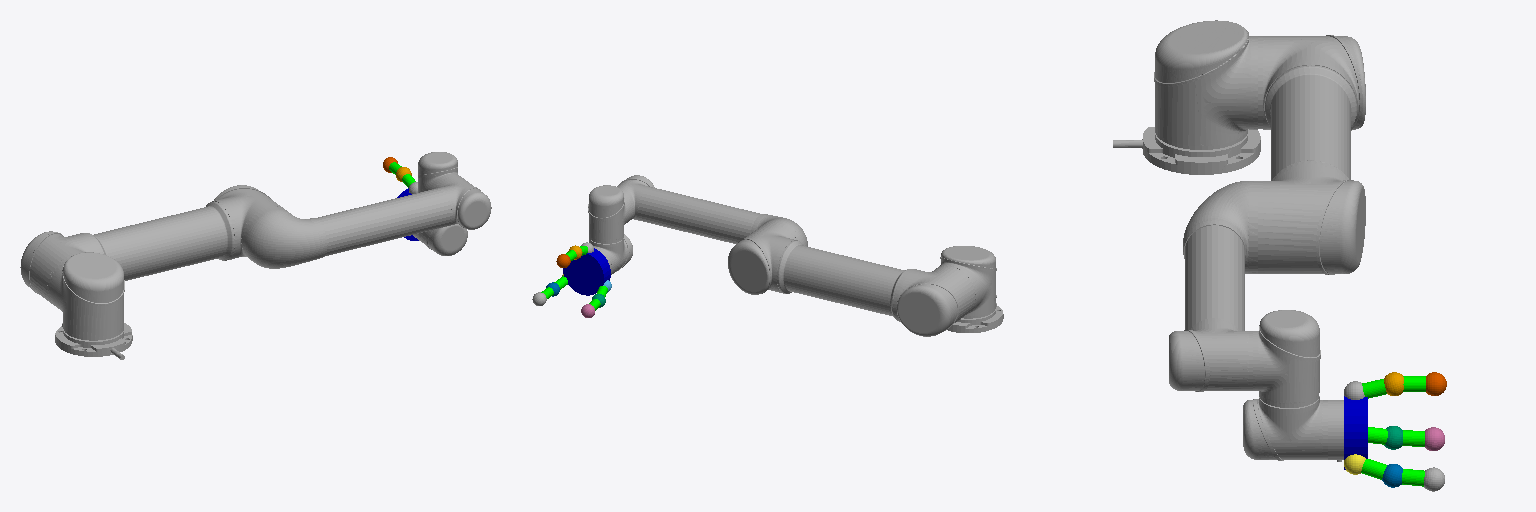
robot.urdf — ur5_3f2j:
<?xml version='1.0' encoding='UTF-8'?>
<robot name="ur5_3f2j">
  <link name="base_link">
    <inertial>
      <origin xyz="0.0 0.0 0.0" rpy="0.0 0.0 0.0"/>
      <mass value="4.0"/>
      <inertia ixx="0.00443333156" ixy="0.0" ixz="0.0" iyy="0.00443333156" iyz="0.0" izz="0.0072"/>
    </inertial>
    <visual>
      <geometry>
        <mesh filename="meshes/ur5/visual/base.obj"/>
      </geometry>
      <material name="LightGrey"/>
      <origin xyz="0.0 0.0 0.0" rpy="0.0 -0.0 0.0"/>
    </visual>
    <collision>
      <geometry>
        <mesh filename="meshes/ur5/collision/base.stl"/>
      </geometry>
      <origin xyz="0.0 0.0 0.0" rpy="0.0 -0.0 0.0"/>
    </collision>
  </link>
  <link name="shoulder_link">
    <inertial>
      <origin xyz="0.0 0.0 0.0" rpy="0.0 0.0 0.0"/>
      <mass value="3.7"/>
      <inertia ixx="0.010267495893" ixy="0.0" ixz="0.0" iyy="0.010267495893" iyz="0.0" izz="0.00666"/>
    </inertial>
    <visual>
      <geometry>
        <mesh filename="meshes/ur5/visual/shoulder.obj"/>
      </geometry>
      <material name="LightGrey"/>
      <origin xyz="0.0 0.0 0.0" rpy="0.0 -0.0 0.0"/>
    </visual>
    <collision>
      <geometry>
        <mesh filename="meshes/ur5/collision/shoulder.stl"/>
      </geometry>
      <origin xyz="0.0 0.0 0.0" rpy="0.0 -0.0 0.0"/>
    </collision>
  </link>
  <link name="upper_arm_link">
    <inertial>
      <origin xyz="0.0 0.0 0.28" rpy="0.0 0.0 0.0"/>
      <mass value="8.393"/>
      <inertia ixx="0.22689067591" ixy="0.0" ixz="0.0" iyy="0.22689067591" iyz="0.0" izz="0.0151074"/>
    </inertial>
    <visual>
      <geometry>
        <mesh filename="meshes/ur5/visual/upperarm.obj"/>
      </geometry>
      <material name="LightGrey"/>
      <origin xyz="0.0 0.0 0.0" rpy="0.0 -0.0 0.0"/>
    </visual>
    <collision>
      <geometry>
        <mesh filename="meshes/ur5/collision/upperarm.stl"/>
      </geometry>
      <origin xyz="0.0 0.0 0.0" rpy="0.0 -0.0 0.0"/>
    </collision>
  </link>
  <link name="forearm_link">
    <inertial>
      <origin xyz="0.0 0.0 0.25" rpy="0.0 0.0 0.0"/>
      <mass value="2.275"/>
      <inertia ixx="0.049443313556" ixy="0.0" ixz="0.0" iyy="0.049443313556" iyz="0.0" izz="0.004095"/>
    </inertial>
    <visual>
      <geometry>
        <mesh filename="meshes/ur5/visual/forearm.obj"/>
      </geometry>
      <material name="LightGrey"/>
      <origin xyz="0.0 0.0 0.0" rpy="0.0 -0.0 0.0"/>
    </visual>
    <collision>
      <geometry>
        <mesh filename="meshes/ur5/collision/forearm.stl"/>
      </geometry>
      <origin xyz="0.0 0.0 0.0" rpy="0.0 -0.0 0.0"/>
    </collision>
  </link>
  <link name="wrist_1_link">
    <inertial>
      <origin xyz="0.0 0.0 0.0" rpy="0.0 0.0 0.0"/>
      <mass value="1.219"/>
      <inertia ixx="0.111172755531" ixy="0.0" ixz="0.0" iyy="0.111172755531" iyz="0.0" izz="0.21942"/>
    </inertial>
    <visual>
      <geometry>
        <mesh filename="meshes/ur5/visual/wrist1.obj"/>
      </geometry>
      <material name="LightGrey"/>
      <origin xyz="0.0 0.0 0.0" rpy="0.0 -0.0 0.0"/>
    </visual>
    <collision>
      <geometry>
        <mesh filename="meshes/ur5/collision/wrist1.stl"/>
      </geometry>
      <origin xyz="0.0 0.0 0.0" rpy="0.0 -0.0 0.0"/>
    </collision>
  </link>
  <link name="wrist_2_link">
    <inertial>
      <origin xyz="0.0 0.0 0.0" rpy="0.0 0.0 0.0"/>
      <mass value="1.219"/>
      <inertia ixx="0.111172755531" ixy="0.0" ixz="0.0" iyy="0.111172755531" iyz="0.0" izz="0.21942"/>
    </inertial>
    <visual>
      <geometry>
        <mesh filename="meshes/ur5/visual/wrist2.obj"/>
      </geometry>
      <material name="LightGrey"/>
      <origin xyz="0.0 0.0 0.0" rpy="0.0 -0.0 0.0"/>
    </visual>
    <collision>
      <geometry>
        <mesh filename="meshes/ur5/collision/wrist2.stl"/>
      </geometry>
      <origin xyz="0.0 0.0 0.0" rpy="0.0 -0.0 0.0"/>
    </collision>
  </link>
  <link name="wrist_3_link">
    <inertial>
      <origin xyz="0.0 0.0 0.0" rpy="0.0 0.0 0.0"/>
      <mass value="0.1879"/>
      <inertia ixx="0.0171364731454" ixy="0.0" ixz="0.0" iyy="0.0171364731454" iyz="0.0" izz="0.033822"/>
    </inertial>
    <visual>
      <geometry>
        <mesh filename="meshes/ur5/visual/wrist3.obj"/>
      </geometry>
      <material name="LightGrey"/>
      <origin xyz="0.0 0.0 0.0" rpy="0.0 -0.0 0.0"/>
    </visual>
    <collision>
      <geometry>
        <mesh filename="meshes/ur5/collision/wrist3.stl"/>
      </geometry>
      <origin xyz="0.0 0.0 0.0" rpy="0.0 -0.0 0.0"/>
    </collision>
  </link>
  <link name="ee_link">
    <inertial>
      <origin xyz="0.0 0.0 0.0" rpy="0.0 0.0 0.0"/>
      <mass value="0.0"/>
      <inertia ixx="0.0" ixy="0.0" ixz="0.0" iyy="0.0" iyz="0.0" izz="0.0"/>
    </inertial>
    <collision>
      <geometry>
        <box size="0.01 0.01 0.01"/>
      </geometry>
      <origin xyz="-0.01 0.0 0.0" rpy="0.0 0.0 0.0"/>
    </collision>
  </link>
  <link name="palm">
    <inertial>
      <origin xyz="0.0 0.0 0.0" rpy="0.0 -0.0 0.0"/>
      <mass value="1.0"/>
      <inertia ixx="1.0" ixy="0.0" ixz="0.0" iyy="1.0" iyz="0.0" izz="1.0"/>
    </inertial>
    <visual>
      <geometry>
        <cylinder radius="0.05" length="0.03"/>
      </geometry>
      <material name="blue"/>
      <origin xyz="0.0 0.0 0.0" rpy="0.0 -0.0 0.0"/>
    </visual>
    <collision>
      <geometry>
        <cylinder radius="0.05" length="0.03"/>
      </geometry>
      <origin xyz="0.0 0.0 0.0" rpy="0.0 0.0 0.0"/>
    </collision>
  </link>
  <link name="f11">
    <inertial>
      <origin xyz="0.0 0.0 0.0" rpy="0.0 -0.0 0.0"/>
      <mass value="1.0"/>
      <inertia ixx="1.0" ixy="0.0" ixz="0.0" iyy="1.0" iyz="0.0" izz="1.0"/>
    </inertial>
    <visual>
      <geometry>
        <cylinder radius="0.01" length="0.05"/>
      </geometry>
      <material name="green"/>
      <origin xyz="0.0 0.0 0.025" rpy="0.0 -0.0 0.0"/>
    </visual>
    <collision>
      <geometry>
        <cylinder radius="0.01" length="0.05"/>
      </geometry>
      <origin xyz="0.0 0.0 0.025" rpy="0.0 0.0 0.0"/>
    </collision>
  </link>
  <link name="f12">
    <inertial>
      <origin xyz="0.0 0.0 0.0" rpy="0.0 -0.0 0.0"/>
      <mass value="1.0"/>
      <inertia ixx="1.0" ixy="0.0" ixz="0.0" iyy="1.0" iyz="0.0" izz="1.0"/>
    </inertial>
    <visual>
      <geometry>
        <cylinder radius="0.01" length="0.05"/>
      </geometry>
      <material name="green"/>
      <origin xyz="0.0 0.0 0.025" rpy="0.0 -0.0 0.0"/>
    </visual>
    <collision>
      <geometry>
        <cylinder radius="0.01" length="0.05"/>
      </geometry>
      <origin xyz="0.0 0.0 0.025" rpy="0.0 0.0 0.0"/>
    </collision>
  </link>
  <link name="f21">
    <inertial>
      <origin xyz="0.0 0.0 0.0" rpy="0.0 -0.0 0.0"/>
      <mass value="1.0"/>
      <inertia ixx="1.0" ixy="0.0" ixz="0.0" iyy="1.0" iyz="0.0" izz="1.0"/>
    </inertial>
    <visual>
      <geometry>
        <cylinder radius="0.01" length="0.05"/>
      </geometry>
      <material name="green"/>
      <origin xyz="0.0 0.0 0.025" rpy="0.0 -0.0 0.0"/>
    </visual>
    <collision>
      <geometry>
        <cylinder radius="0.01" length="0.05"/>
      </geometry>
      <origin xyz="0.0 0.0 0.025" rpy="0.0 0.0 0.0"/>
    </collision>
  </link>
  <link name="f22">
    <inertial>
      <origin xyz="0.0 0.0 0.0" rpy="0.0 -0.0 0.0"/>
      <mass value="1.0"/>
      <inertia ixx="1.0" ixy="0.0" ixz="0.0" iyy="1.0" iyz="0.0" izz="1.0"/>
    </inertial>
    <visual>
      <geometry>
        <cylinder radius="0.01" length="0.05"/>
      </geometry>
      <material name="green"/>
      <origin xyz="0.0 0.0 0.025" rpy="0.0 -0.0 0.0"/>
    </visual>
    <collision>
      <geometry>
        <cylinder radius="0.01" length="0.05"/>
      </geometry>
      <origin xyz="0.0 0.0 0.025" rpy="0.0 0.0 0.0"/>
    </collision>
  </link>
  <link name="f31">
    <inertial>
      <origin xyz="0.0 0.0 0.0" rpy="0.0 -0.0 0.0"/>
      <mass value="1.0"/>
      <inertia ixx="1.0" ixy="0.0" ixz="0.0" iyy="1.0" iyz="0.0" izz="1.0"/>
    </inertial>
    <visual>
      <geometry>
        <cylinder radius="0.01" length="0.05"/>
      </geometry>
      <material name="green"/>
      <origin xyz="0.0 0.0 0.025" rpy="0.0 -0.0 0.0"/>
    </visual>
    <collision>
      <geometry>
        <cylinder radius="0.01" length="0.05"/>
      </geometry>
      <origin xyz="0.0 0.0 0.025" rpy="0.0 0.0 0.0"/>
    </collision>
  </link>
  <link name="f32">
    <inertial>
      <origin xyz="0.0 0.0 0.0" rpy="0.0 -0.0 0.0"/>
      <mass value="1.0"/>
      <inertia ixx="1.0" ixy="0.0" ixz="0.0" iyy="1.0" iyz="0.0" izz="1.0"/>
    </inertial>
    <visual>
      <geometry>
        <cylinder radius="0.01" length="0.05"/>
      </geometry>
      <material name="green"/>
      <origin xyz="0.0 0.0 0.025" rpy="0.0 -0.0 0.0"/>
    </visual>
    <collision>
      <geometry>
        <cylinder radius="0.01" length="0.05"/>
      </geometry>
      <origin xyz="0.0 0.0 0.025" rpy="0.0 0.0 0.0"/>
    </collision>
  </link>
  <link name="f11_base">
    <inertial>
      <origin xyz="0.0 0.0 0.0" rpy="0.0 0.0 0.0"/>
      <mass value="0.01"/>
      <inertia ixx="0.0" ixy="0.0" ixz="0.0" iyy="0.0" iyz="0.0" izz="0.0"/>
    </inertial>
    <visual>
      <geometry>
        <sphere radius="0.015"/>
      </geometry>
      <origin xyz="0.0 0.0 0.0" rpy="0.0 -0.0 0.0"/>
    </visual>
  </link>
  <link name="f12_slot">
    <inertial>
      <origin xyz="0.0 0.0 0.0" rpy="0.0 0.0 0.0"/>
      <mass value="0.01"/>
      <inertia ixx="0.0" ixy="0.0" ixz="0.0" iyy="0.0" iyz="0.0" izz="0.0"/>
    </inertial>
    <visual>
      <geometry>
        <sphere radius="0.015"/>
      </geometry>
      <origin xyz="0.0 0.0 0.0" rpy="0.0 -0.0 0.0"/>
    </visual>
  </link>
  <link name="f21_base">
    <inertial>
      <origin xyz="0.0 0.0 0.0" rpy="0.0 0.0 0.0"/>
      <mass value="0.01"/>
      <inertia ixx="0.0" ixy="0.0" ixz="0.0" iyy="0.0" iyz="0.0" izz="0.0"/>
    </inertial>
    <visual>
      <geometry>
        <sphere radius="0.015"/>
      </geometry>
      <origin xyz="0.0 0.0 0.0" rpy="0.0 -0.0 0.0"/>
    </visual>
  </link>
  <link name="f22_slot">
    <inertial>
      <origin xyz="0.0 0.0 0.0" rpy="0.0 0.0 0.0"/>
      <mass value="0.01"/>
      <inertia ixx="0.0" ixy="0.0" ixz="0.0" iyy="0.0" iyz="0.0" izz="0.0"/>
    </inertial>
    <visual>
      <geometry>
        <sphere radius="0.015"/>
      </geometry>
      <origin xyz="0.0 0.0 0.0" rpy="0.0 -0.0 0.0"/>
    </visual>
  </link>
  <link name="f31_base">
    <inertial>
      <origin xyz="0.0 0.0 0.0" rpy="0.0 0.0 0.0"/>
      <mass value="0.0"/>
      <inertia ixx="0.0" ixy="0.0" ixz="0.0" iyy="0.0" iyz="0.0" izz="0.0"/>
    </inertial>
    <visual>
      <geometry>
        <sphere radius="0.015"/>
      </geometry>
      <origin xyz="0.0 0.0 0.0" rpy="0.0 -0.0 0.0"/>
    </visual>
  </link>
  <link name="f32_slot">
    <inertial>
      <origin xyz="0.0 0.0 0.0" rpy="0.0 0.0 0.0"/>
      <mass value="0.0"/>
      <inertia ixx="0.0" ixy="0.0" ixz="0.0" iyy="0.0" iyz="0.0" izz="0.0"/>
    </inertial>
    <visual>
      <geometry>
        <sphere radius="0.015"/>
      </geometry>
      <origin xyz="0.0 0.0 0.0" rpy="0.0 -0.0 0.0"/>
    </visual>
  </link>
  <link name="f13_slot">
    <inertial>
      <origin xyz="0.0 0.0 0.0" rpy="0.0 0.0 0.0"/>
      <mass value="0.0"/>
      <inertia ixx="0.0" ixy="0.0" ixz="0.0" iyy="0.0" iyz="0.0" izz="0.0"/>
    </inertial>
    <visual>
      <geometry>
        <sphere radius="0.015"/>
      </geometry>
      <origin xyz="0.0 0.0 0.0" rpy="0.0 -0.0 0.0"/>
    </visual>
  </link>
  <link name="f23_slot">
    <inertial>
      <origin xyz="0.0 0.0 0.0" rpy="0.0 0.0 0.0"/>
      <mass value="0.0"/>
      <inertia ixx="0.0" ixy="0.0" ixz="0.0" iyy="0.0" iyz="0.0" izz="0.0"/>
    </inertial>
    <visual>
      <geometry>
        <sphere radius="0.015"/>
      </geometry>
      <origin xyz="0.0 0.0 0.0" rpy="0.0 -0.0 0.0"/>
    </visual>
  </link>
  <link name="f33_slot">
    <inertial>
      <origin xyz="0.0 0.0 0.0" rpy="0.0 0.0 0.0"/>
      <mass value="0.0"/>
      <inertia ixx="0.0" ixy="0.0" ixz="0.0" iyy="0.0" iyz="0.0" izz="0.0"/>
    </inertial>
    <visual>
      <geometry>
        <sphere radius="0.015"/>
      </geometry>
      <origin xyz="0.0 0.0 0.0" rpy="0.0 -0.0 0.0"/>
    </visual>
  </link>
  <joint name="shoulder_pan_joint" type="revolute">
    <dynamics damping="0.0" friction="0.0"/>
    <limit effort="150.0" velocity="3.15" lower="-3.14159265359" upper="3.14159265359"/>
    <parent link="base_link"/>
    <child link="shoulder_link"/>
    <axis xyz="0 0 1"/>
    <origin xyz="0.0 0.0 0.089159" rpy="0.0 0.0 0.0"/>
  </joint>
  <joint name="shoulder_lift_joint" type="revolute">
    <dynamics damping="0.0" friction="0.0"/>
    <limit effort="150.0" velocity="3.15" lower="-3.14159265359" upper="3.14159265359"/>
    <parent link="shoulder_link"/>
    <child link="upper_arm_link"/>
    <axis xyz="0 1 0"/>
    <origin xyz="0.0 0.13585 0.0" rpy="0.0 1.5707963267948966 0.0"/>
  </joint>
  <joint name="elbow_joint" type="revolute">
    <dynamics damping="0.0" friction="0.0"/>
    <limit effort="150.0" velocity="3.15" lower="-3.14159265359" upper="3.14159265359"/>
    <parent link="upper_arm_link"/>
    <child link="forearm_link"/>
    <axis xyz="0 1 0"/>
    <origin xyz="0.0 -0.1197 0.425" rpy="0.0 0.0 0.0"/>
  </joint>
  <joint name="wrist_1_joint" type="revolute">
    <dynamics damping="0.0" friction="0.0"/>
    <limit effort="28.0" velocity="3.2" lower="-6.28318530718" upper="6.28318530718"/>
    <parent link="forearm_link"/>
    <child link="wrist_1_link"/>
    <axis xyz="0 1 0"/>
    <origin xyz="0.0 0.0 0.39225" rpy="0.0 1.5707963267948966 0.0"/>
  </joint>
  <joint name="wrist_2_joint" type="revolute">
    <dynamics damping="0.0" friction="0.0"/>
    <limit effort="28.0" velocity="3.2" lower="-6.28318530718" upper="6.28318530718"/>
    <parent link="wrist_1_link"/>
    <child link="wrist_2_link"/>
    <axis xyz="0 0 1"/>
    <origin xyz="0.0 0.093 0.0" rpy="0.0 0.0 0.0"/>
  </joint>
  <joint name="wrist_3_joint" type="revolute">
    <dynamics damping="0.0" friction="0.0"/>
    <limit effort="28.0" velocity="3.2" lower="-6.28318530718" upper="6.28318530718"/>
    <parent link="wrist_2_link"/>
    <child link="wrist_3_link"/>
    <axis xyz="0 1 0"/>
    <origin xyz="0.0 0.0 0.09465" rpy="0.0 0.0 0.0"/>
  </joint>
  <joint name="ee_fixed_joint" type="fixed">
    <parent link="wrist_3_link"/>
    <child link="ee_link"/>
    <axis xyz="1 0 0"/>
    <origin xyz="0.0 0.0823 0.0" rpy="0.0 0.0 1.57079632679"/>
  </joint>
  <joint name="palm_ee_joint" type="fixed">
    <parent link="ee_link"/>
    <child link="palm"/>
    <axis xyz="1 0 0"/>
    <origin xyz="0.0 0.0 0.0" rpy="3.14 1.5699999999999876 3.14"/>
  </joint>
  <joint name="f11_joint" type="revolute">
    <dynamics damping="100.0" friction="1.0"/>
    <limit effort="30.0" velocity="2.0" lower="-0.4" upper="0.25"/>
    <parent link="f11_base"/>
    <child link="f11"/>
    <axis xyz="0 1 0"/>
    <origin xyz="0.0 0.0 0.0" rpy="0.0 0.25 0.0"/>
  </joint>
  <joint name="f12_joint" type="revolute">
    <dynamics damping="100.0" friction="1.0"/>
    <limit effort="30.0" velocity="2.0" lower="-0.4" upper="0.0"/>
    <mimic joint="f11_joint" multiplier="2.0" offset="-0.25"/>
    <parent link="f12_slot"/>
    <child link="f12"/>
    <axis xyz="0 1 0"/>
    <origin xyz="0.0 0.0 0.0" rpy="0.0 -0.0 0.0"/>
  </joint>
  <joint name="f21_joint" type="revolute">
    <dynamics damping="100.0" friction="1.0"/>
    <limit effort="30.0" velocity="2.0" lower="-0.4" upper="0.25"/>
    <parent link="f21_base"/>
    <child link="f21"/>
    <axis xyz="0.7071067811865475 -0.7071067811865475  0"/>
    <origin xyz="0.0 0.0 0.0" rpy="0.25 -0.25 0.0"/>
  </joint>
  <joint name="f22_joint" type="revolute">
    <dynamics damping="100.0" friction="1.0"/>
    <limit effort="30.0" velocity="2.0" lower="-0.4" upper="0.0"/>
    <mimic joint="f21_joint" multiplier="1.0" offset="-0.25"/>
    <parent link="f22_slot"/>
    <child link="f22"/>
    <axis xyz=" 0.7071067811865475 -0.7071067811865475  0"/>
    <origin xyz="0.0 0.0 0.0" rpy="0.0 -0.0 0.0"/>
  </joint>
  <joint name="f31_joint" type="revolute">
    <dynamics damping="100.0" friction="1.0"/>
    <limit effort="30.0" velocity="2.0" lower="-0.4" upper="0.25"/>
    <parent link="f31_base"/>
    <child link="f31"/>
    <axis xyz="-0.7071067811865475 -0.7071067811865475  0"/>
    <origin xyz="0.0 0.0 0.0" rpy="-0.25 -0.25 0.0"/>
  </joint>
  <joint name="f32_joint" type="revolute">
    <dynamics damping="100.0" friction="1.0"/>
    <limit effort="30.0" velocity="2.0" lower="-0.4" upper="0."/>
    <mimic joint="f31_joint" multiplier="1.0" offset="-0.25"/>
    <parent link="f32_slot"/>
    <child link="f32"/>
    <axis xyz="-0.7071067811865475 -0.7071067811865475  0"/>
    <origin xyz="0.0 0.0 0.0" rpy="0.0 0.0 0.0"/>
  </joint>
  <joint name="f11_base_joint" type="fixed">
    <parent link="palm"/>
    <child link="f11_base"/>
    <axis xyz="1 0 0"/>
    <origin xyz="0.05 0.0 0.0" rpy="0.0 0.0 0.0"/>
  </joint>
  <joint name="f12_slot_joint" type="fixed">
    <parent link="f11"/>
    <child link="f12_slot"/>
    <axis xyz="1 0 0"/>
    <origin xyz="0.0 0.0 0.05" rpy="0.0 0.0 0.0"/>
  </joint>
  <joint name="f21_base_joint" type="fixed">
    <parent link="palm"/>
    <child link="f21_base"/>
    <axis xyz="1 0 0"/>
    <origin xyz="-0.025 -0.043301270189222 0.0" rpy="0.0 0.0 0.0"/>
  </joint>
  <joint name="f22_slot_joint" type="fixed">
    <parent link="f21"/>
    <child link="f22_slot"/>
    <axis xyz="1 0 0"/>
    <origin xyz="0.0 0.0 0.05" rpy="0.0 0.0 0.0"/>
  </joint>
  <joint name="f31_base_joint" type="fixed">
    <parent link="palm"/>
    <child link="f31_base"/>
    <axis xyz="1 0 0"/>
    <origin xyz="-0.025 0.043301270189222 0.0" rpy="0.0 0.0 0.0"/>
  </joint>
  <joint name="f32_slot_joint" type="fixed">
    <parent link="f31"/>
    <child link="f32_slot"/>
    <axis xyz="1 0 0"/>
    <origin xyz="0.0 0.0 0.05" rpy="0.0 0.0 0.0"/>
  </joint>
  <joint name="f13_slot_joint" type="fixed">
    <parent link="f12"/>
    <child link="f13_slot"/>
    <axis xyz="1 0. 0."/>
    <origin xyz="0.0 0.0 0.05" rpy="0.0 0.0 0.0"/>
  </joint>
  <joint name="f23_slot_joint" type="fixed">
    <parent link="f22"/>
    <child link="f23_slot"/>
    <axis xyz="1. 0. 0."/>
    <origin xyz="0.0 0.0 0.05" rpy="0.0 0.0 0.0"/>
  </joint>
  <joint name="f33_slot_joint" type="fixed">
    <parent link="f32"/>
    <child link="f33_slot"/>
    <axis xyz="1. 0. 0."/>
    <origin xyz="0.0 0.0 0.05" rpy="0.0 0.0 0.0"/>
  </joint>
  <material name="LightGrey">
    <color rgba="0.7 0.7 0.7 1. "/>
  </material>
  <material name="blue">
    <color rgba="0.  0.  0.8 1. "/>
  </material>
  <material name="green">
    <color rgba="0. 1. 0. 1."/>
  </material>
</robot>

--- What the picture shows (computed from the rendered views, not written in the file) ---
Views: 3 orthographic renders of the robot side by side, from view 1: azimuth 30°, elevation 25°; view 2: azimuth 150°, elevation 25°; view 3: azimuth 270°, elevation 25°.
Robot: ur5_3f2j — 24 links, 23 joints (12 revolute, 11 fixed); root link base_link; default pose: every joint at zero.
Links seen in each view (by area): view 1: upper_arm_link, forearm_link, shoulder_link, base_link, wrist_1_link, wrist_2_link; view 2: upper_arm_link, forearm_link, shoulder_link, wrist_1_link, palm, wrist_2_link, base_link; view 3: upper_arm_link, forearm_link, shoulder_link, wrist_1_link, wrist_2_link, base_link, palm, wrist_3_link.
Boxes of the visible links, bbox=[...] form: upper_arm_link: bbox=[20, 185, 283, 305]; forearm_link: bbox=[243, 175, 491, 268]; shoulder_link: bbox=[49, 252, 124, 340]; base_link: bbox=[55, 323, 132, 359]; wrist_1_link: bbox=[418, 152, 458, 192]; wrist_2_link: bbox=[413, 224, 467, 255]; upper_arm_link: bbox=[728, 223, 975, 336]; forearm_link: bbox=[617, 175, 807, 246]; shoulder_link: bbox=[936, 246, 996, 318]; wrist_1_link: bbox=[588, 185, 632, 243]; palm: bbox=[563, 248, 610, 295]; wrist_2_link: bbox=[589, 234, 632, 274]; base_link: bbox=[947, 295, 1003, 332]; upper_arm_link: bbox=[1258, 35, 1365, 274]; forearm_link: bbox=[1169, 181, 1257, 391]; shoulder_link: bbox=[1154, 20, 1257, 149]; wrist_1_link: bbox=[1253, 310, 1320, 407]; wrist_2_link: bbox=[1243, 396, 1327, 460]; base_link: bbox=[1113, 127, 1260, 174]; palm: bbox=[1344, 396, 1367, 469]; wrist_3_link: bbox=[1328, 400, 1343, 461].
Bounding box of the posed robot: 0.9648 × 0.4148 × 0.2187 m (x, y, z).
Meshes: 7 distinct files referenced, 7 mesh visuals loaded (7 OBJ).